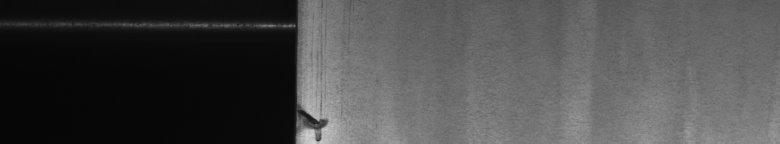hb: (308, 52, 335, 136)
